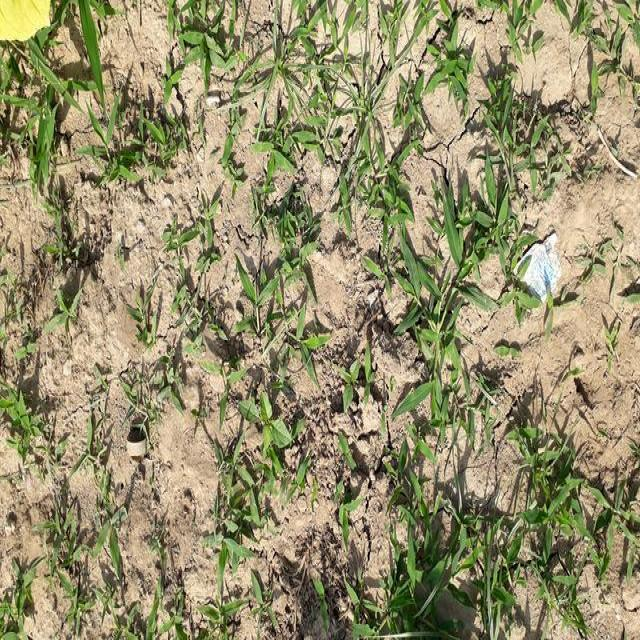weed: (372, 407, 640, 640), (372, 121, 568, 381), (218, 234, 308, 562), (1, 24, 165, 194)
